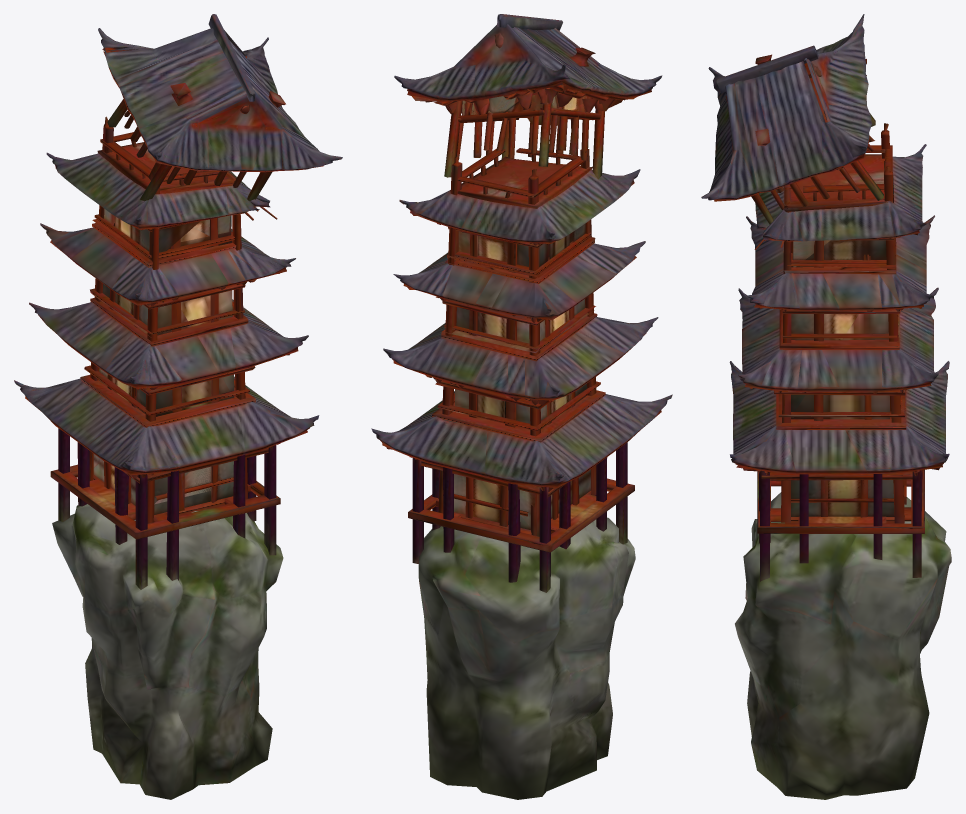
The model's file is pagoda.glb.
The picture shows the model from 3 angles, left to right: view 1: azimuth 30°, elevation 25°; view 2: azimuth 150°, elevation 25°; view 3: azimuth 270°, elevation 25°; orthographic projection.
Parts seen in each view (by area): view 1: geometry_0; view 2: geometry_0; view 3: geometry_0.
Part boxes in pixels (bbox=[...]): geometry_0: bbox=[14, 14, 342, 799]; geometry_0: bbox=[371, 14, 672, 799]; geometry_0: bbox=[701, 14, 951, 799].
Size of the model in its own units: 0.2847 by 0.9526 by 0.2959.
1 material, 1 textured.
